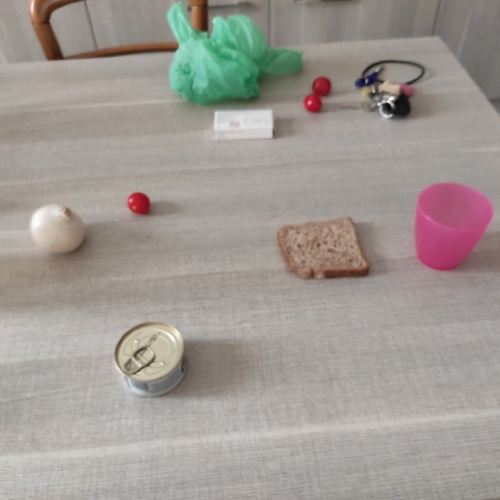cipolla: (26, 200, 91, 261)
pane: (272, 208, 377, 289)
pomodoro: (123, 190, 158, 222), (310, 74, 337, 100), (301, 91, 326, 117)
tonno: (110, 320, 192, 400)
